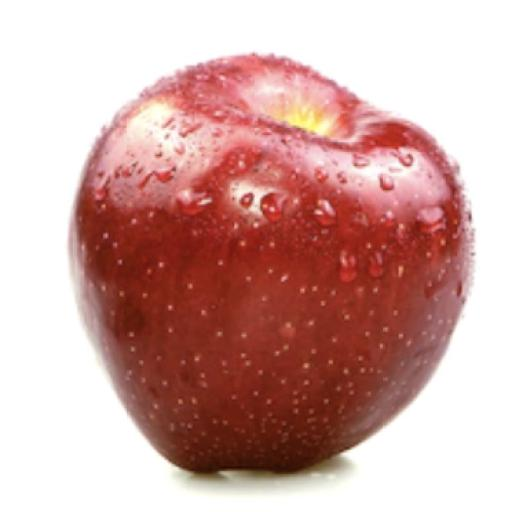apple: (70, 55, 471, 471)
